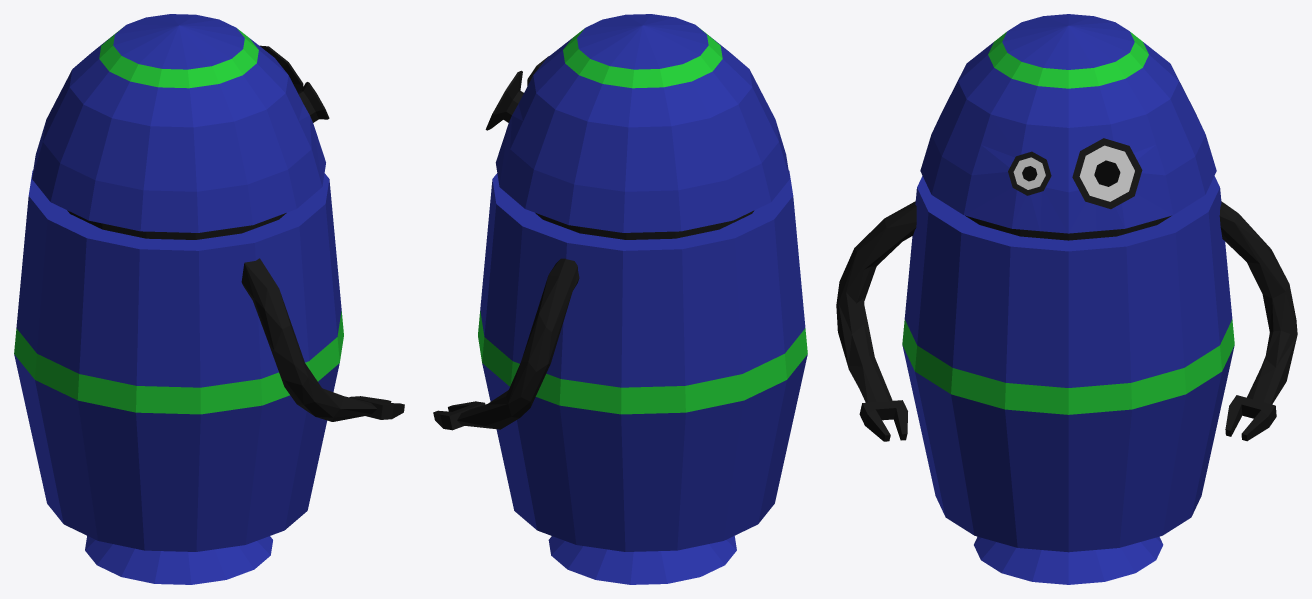
Rendered from blueBot.dae.
3 renders of one model, left to right at view 1: azimuth 30°, elevation 25°; view 2: azimuth 150°, elevation 25°; view 3: azimuth 270°, elevation 25°, orthographic.
Parts seen in each view (by area): view 1: Cylinder, Circle_002, Cube_001; view 2: Cylinder, Circle_001, Cube; view 3: Cylinder, Circle_002, Circle_001, Cube, Cube_001.
Boxes of the visible parts, x1,y1,x2,y2 form: Cylinder: (14, 14, 343, 584); Circle_002: (241, 258, 376, 421); Cube_001: (349, 396, 404, 419); Cylinder: (478, 14, 807, 584); Circle_001: (457, 258, 579, 429); Cube: (433, 401, 485, 430); Cylinder: (902, 14, 1234, 584); Circle_002: (836, 201, 916, 402); Circle_001: (1219, 201, 1297, 404); Cube: (1225, 395, 1276, 441); Cube_001: (859, 400, 907, 441).
Bounding box in the file's own units: 0.5154 × 0.888 × 0.7151.
